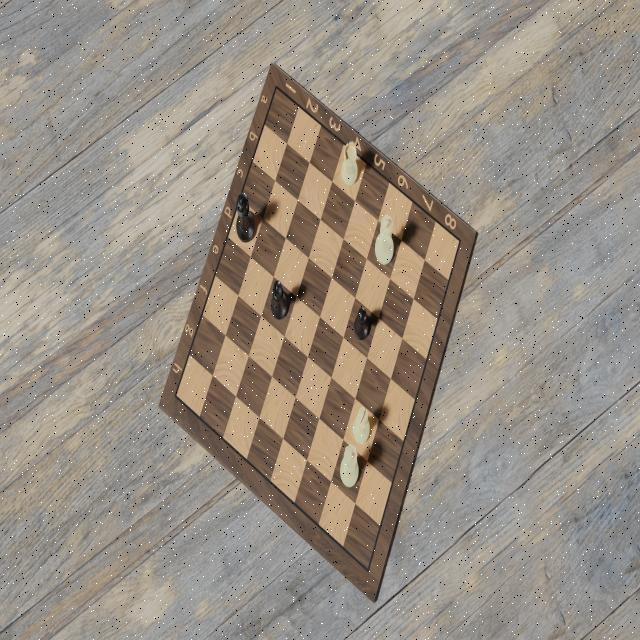black-bishop: (269, 278, 291, 321)
black-king: (234, 192, 257, 246)
black-pawn: (353, 305, 371, 347)
white-bishop: (350, 401, 373, 450)
white-king: (375, 214, 395, 270)
white-queen: (337, 442, 362, 498)
white-rook: (340, 142, 360, 188)
